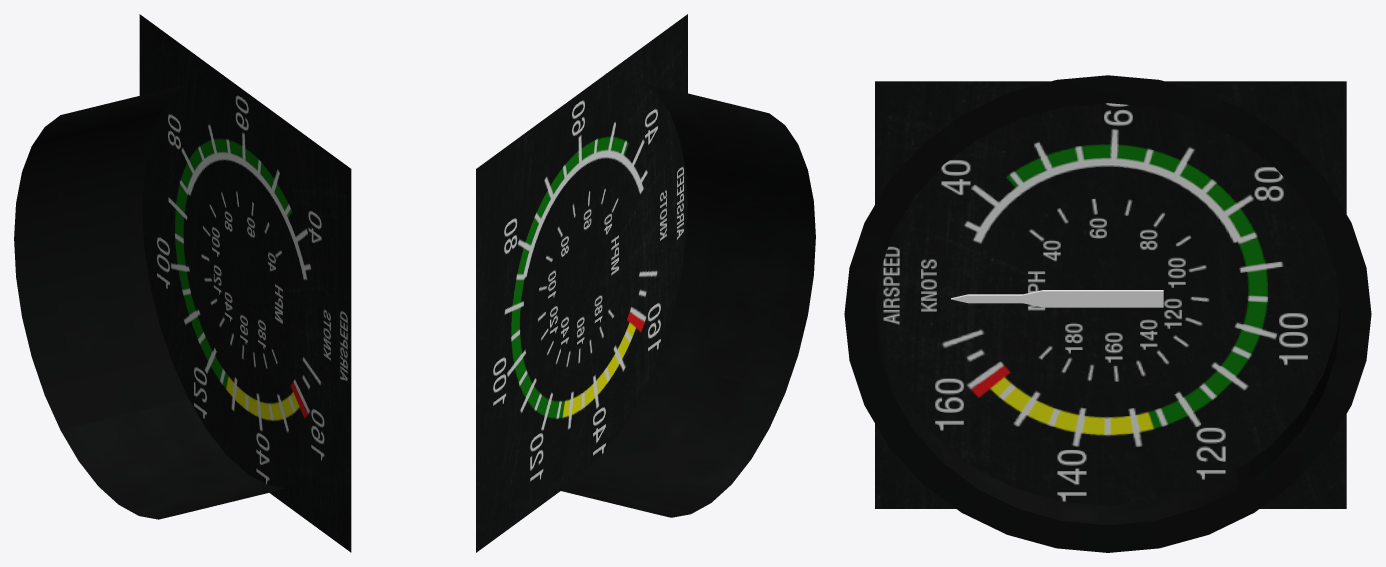
File: asi.gltf
3 views of the same model, side by side, from view 1: azimuth 30°, elevation 25°; view 2: azimuth 150°, elevation 25°; view 3: azimuth 270°, elevation 25° (orthographic). The views are drawn at different scales.
Visible parts, largest first — view 1: Face, Case; view 2: Face, Case; view 3: Face, Case, Needle.
Boxes of the visible parts, x1,y1,x2,y2 form: Face: (139, 14, 351, 552); Case: (14, 84, 290, 519); Face: (476, 14, 687, 552); Case: (542, 82, 815, 517); Face: (875, 81, 1346, 508); Case: (844, 75, 1371, 552); Needle: (951, 290, 1163, 307).
Size of the model in its own units: 0.032 by 0.08 by 0.08.
1 material, 1 textured.
